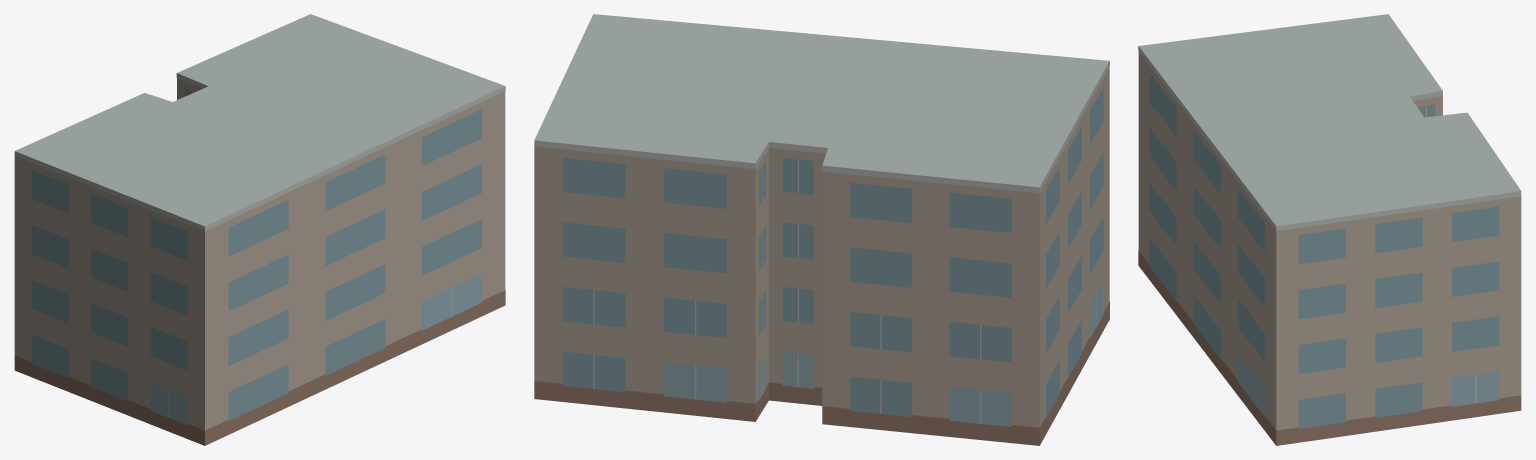
The model's file is survey-upis-32771194.glb.
3 views of the same model, side by side, from view 1: azimuth 30°, elevation 25°; view 2: azimuth 150°, elevation 25°; view 3: azimuth 270°, elevation 25° (orthographic). The views are drawn at different scales.
Parts seen in each view (by area): view 1: survey-upis-32771194.tmp; view 2: survey-upis-32771194.tmp; view 3: survey-upis-32771194.tmp.
Part boxes in pixels (<box>): survey-upis-32771194.tmp: <box>14,14,505,445</box>; survey-upis-32771194.tmp: <box>534,14,1109,445</box>; survey-upis-32771194.tmp: <box>1138,14,1521,445</box>.
Bounding box in the file's own units: 22.1 × 10.65 × 16.84.
